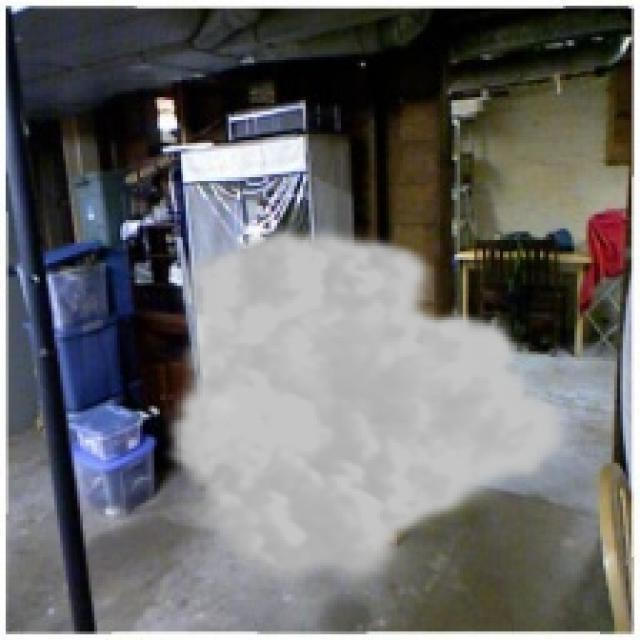Smoke: (163, 220, 580, 594)
